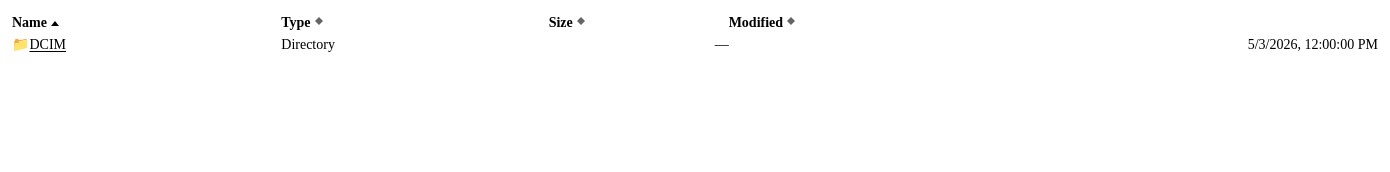
Test case: DirectoryBrowser › shows a slash root crumb after navigating into a subdirectory and allows returning to root
Click the button with class "entry-nav-btn".
click(48, 46)  # box top-left (30, 34), bottom-right (66, 57)
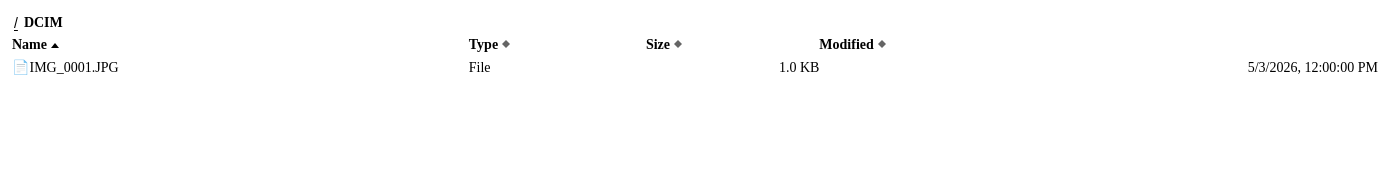
Expected: the button with class "crumb-current" reads "DCIM", top-left (24, 15), bottom-right (63, 30)
Expected: the button with class "crumb-btn" reads "/"
Click the button with class "crumb-btn" showing "/".
click(16, 23)  # box top-left (12, 15), bottom-right (20, 31)
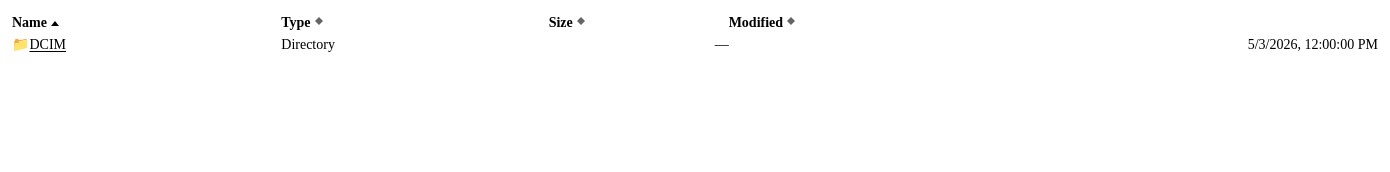
Expected: no buttons with class "crumb-btn" are shown
